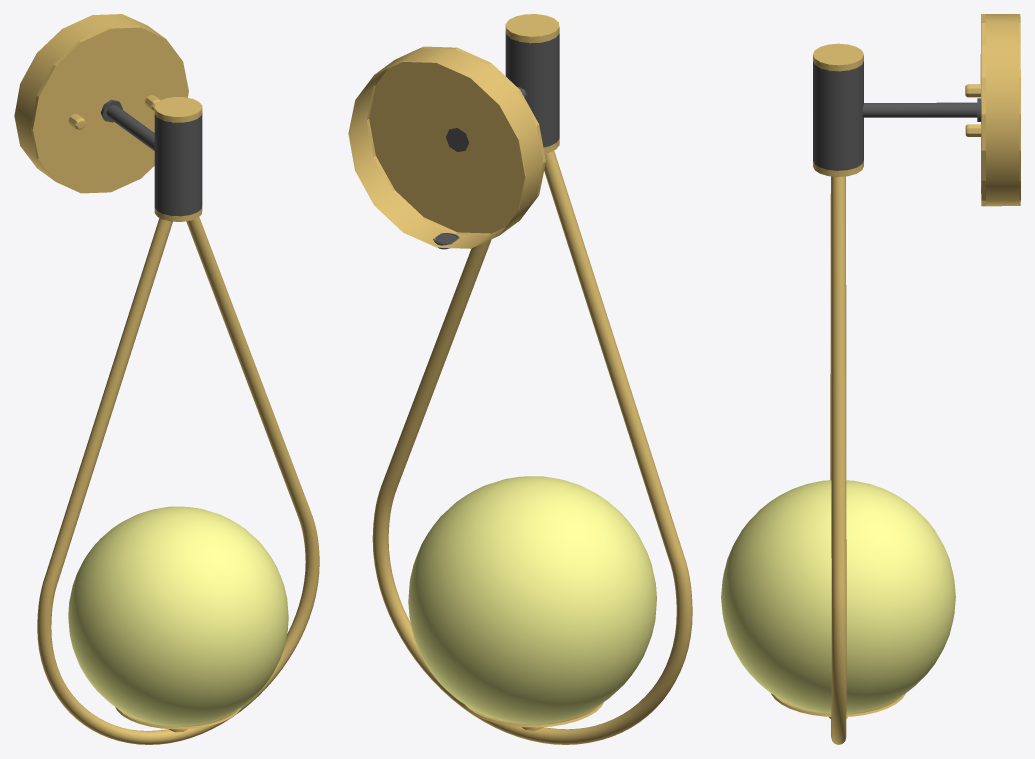
Rendered from glass-ball-wall-lamp.glb.
The picture shows the model from 3 angles, left to right: view 1: azimuth 30°, elevation 25°; view 2: azimuth 150°, elevation 25°; view 3: azimuth 270°, elevation 25°; orthographic projection. The views are drawn at different scales.
Parts seen in each view (by area): view 1: Lamp.0, subscattering, Lamp.2; view 2: Lamp.0, subscattering, Lamp.2; view 3: subscattering, Lamp.0, Lamp.2.
Part boxes in pixels (bbox=[...]): Lamp.0: bbox=[14, 14, 319, 744]; subscattering: bbox=[68, 506, 288, 726]; Lamp.2: bbox=[101, 99, 202, 216]; Lamp.0: bbox=[348, 14, 692, 744]; subscattering: bbox=[408, 476, 656, 724]; Lamp.2: bbox=[433, 31, 559, 249]; subscattering: bbox=[721, 480, 955, 713]; Lamp.0: bbox=[771, 14, 1020, 744]; Lamp.2: bbox=[813, 61, 981, 170].
Bounding box in the file's own units: 0.2203 × 0.4965 × 0.1912.
